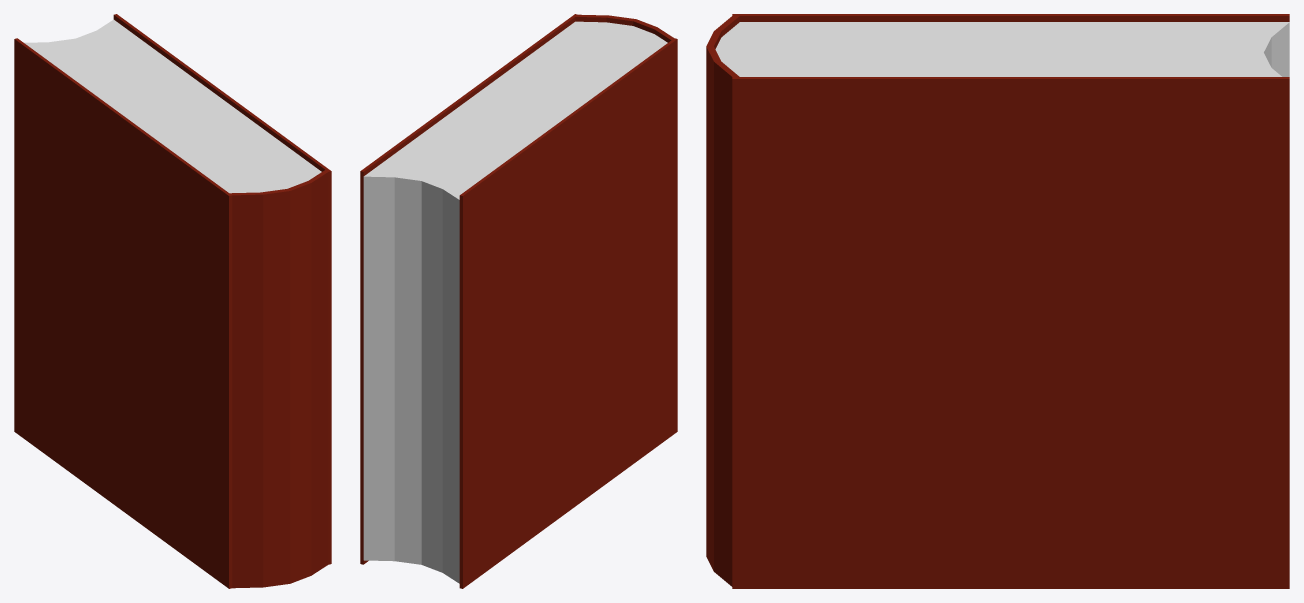
File: Book_001.fbx
3 views of the same model, side by side, from view 1: azimuth 30°, elevation 25°; view 2: azimuth 150°, elevation 25°; view 3: azimuth 270°, elevation 25° (orthographic). The views are drawn at different scales.
Visible parts, largest first — view 1: book_001; view 2: book_001; view 3: book_001.
Boxes of the visible parts, x1,y1,x2,y2 form: book_001: [14, 14, 331, 588]; book_001: [360, 14, 677, 588]; book_001: [706, 14, 1289, 588].
Bounding box in the file's own units: 8.58 × 31.45 × 32.61.
